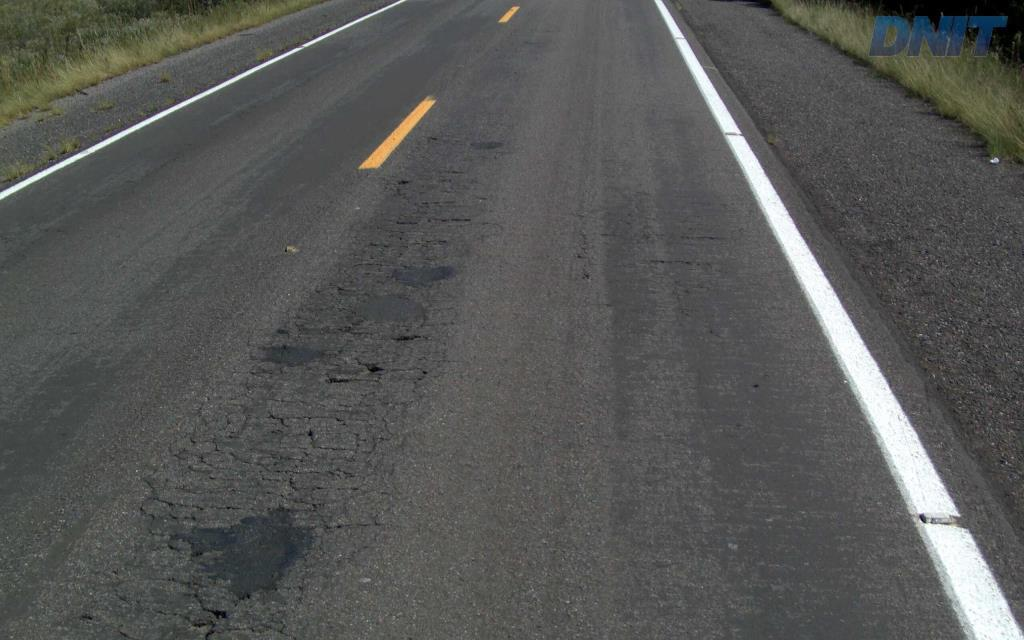crack: (168, 609, 216, 639), (276, 523, 300, 580)
